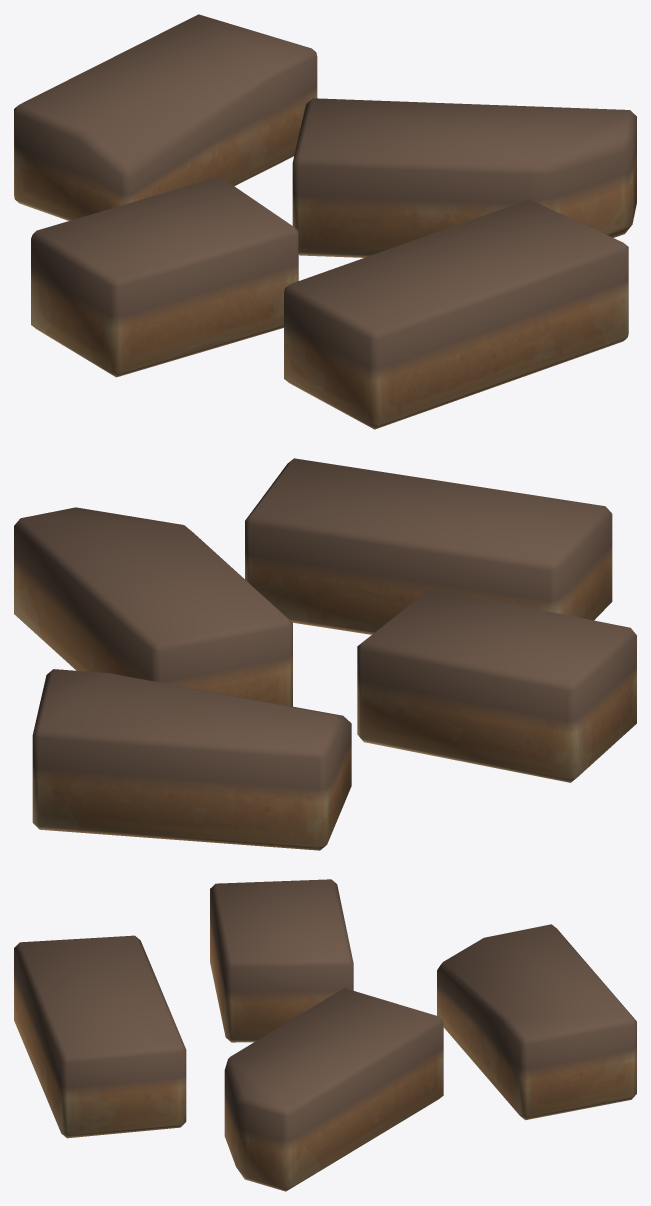
File: SM_brick_04.glb
3 views of the same model, one above another, from view 1: azimuth 30°, elevation 25°; view 2: azimuth 150°, elevation 25°; view 3: azimuth 270°, elevation 25° (orthographic). The views are drawn at different scales.
Visible parts, largest first — view 1: SM_brick_04; view 2: SM_brick_04; view 3: SM_brick_04.
Boxes of the visible parts, <box> form: SM_brick_04: <box>14,14,636,429</box>; SM_brick_04: <box>14,458,636,850</box>; SM_brick_04: <box>14,879,636,1191</box>.
Size of the model in its own units: 1.02 by 0.1726 by 1.14.
Materials: 1 (1 with a texture image).
